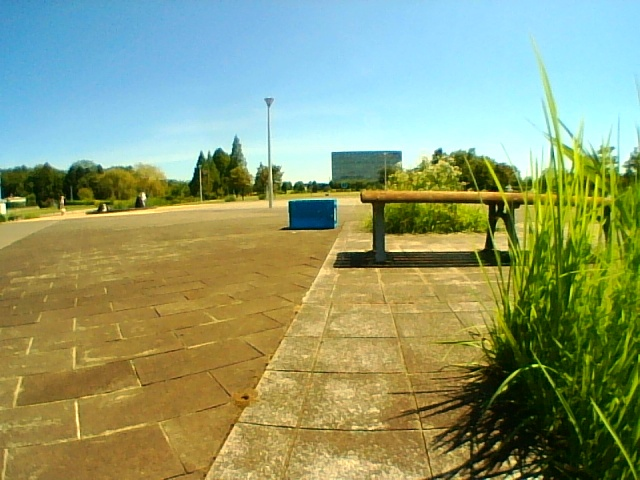blue_box: (291, 199, 338, 228)
tag: (334, 209, 336, 224)
